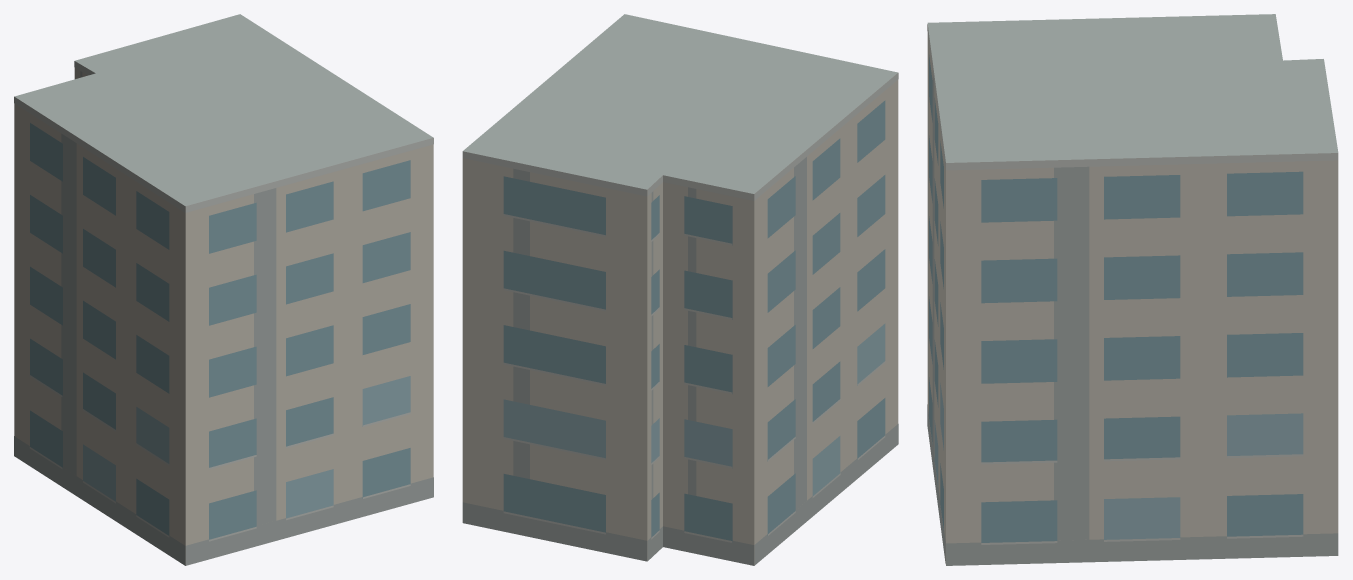
The model's file is survey-upis-32892435.glb.
3 views of the same model, side by side, from view 1: azimuth 30°, elevation 25°; view 2: azimuth 150°, elevation 25°; view 3: azimuth 270°, elevation 25° (orthographic). The views are drawn at different scales.
Parts seen in each view (by area): view 1: survey-upis-32892435.tmp; view 2: survey-upis-32892435.tmp; view 3: survey-upis-32892435.tmp.
Boxes of the visible parts, bbox=[...] form: survey-upis-32892435.tmp: bbox=[14, 14, 433, 565]; survey-upis-32892435.tmp: bbox=[462, 14, 898, 565]; survey-upis-32892435.tmp: bbox=[927, 14, 1338, 565].
Size of the model in its own units: 10.48 by 13.2 by 12.21.
